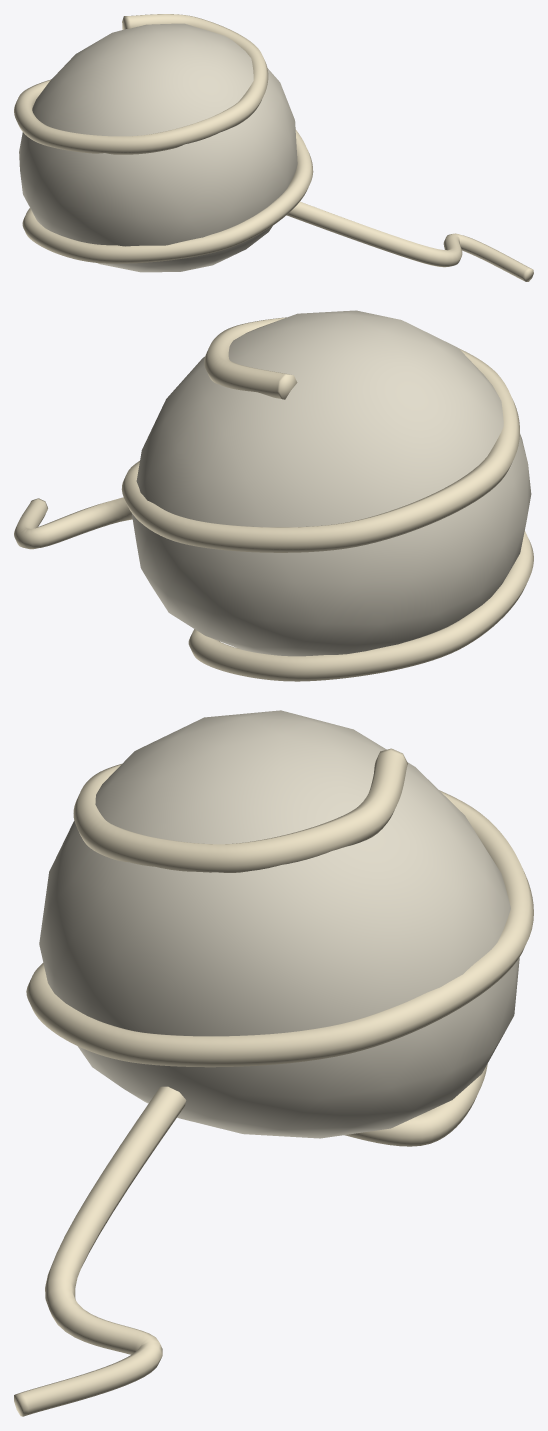
File: yarn_helix.glb
3 views of the same model, one above another, from view 1: azimuth 30°, elevation 25°; view 2: azimuth 150°, elevation 25°; view 3: azimuth 270°, elevation 25° (orthographic). The views are drawn at different scales.
Parts seen in each view (by area): view 1: TwineBall, HelixWrap, LooseEnd; view 2: TwineBall, HelixWrap, LooseEnd; view 3: TwineBall, HelixWrap, LooseEnd.
Part boxes in pixels (x1,y1,x2,y2): TwineBall: (19, 23, 297, 272); HelixWrap: (14, 14, 313, 263); LooseEnd: (286, 201, 533, 281); TwineBall: (131, 310, 531, 656); HelixWrap: (121, 317, 533, 681); LooseEnd: (14, 497, 132, 549); TwineBall: (39, 710, 519, 1138); HelixWrap: (26, 748, 533, 1146); LooseEnd: (14, 1086, 186, 1416).
Bounding box in the file's own units: 0.1872 × 0.1115 × 0.1191.
